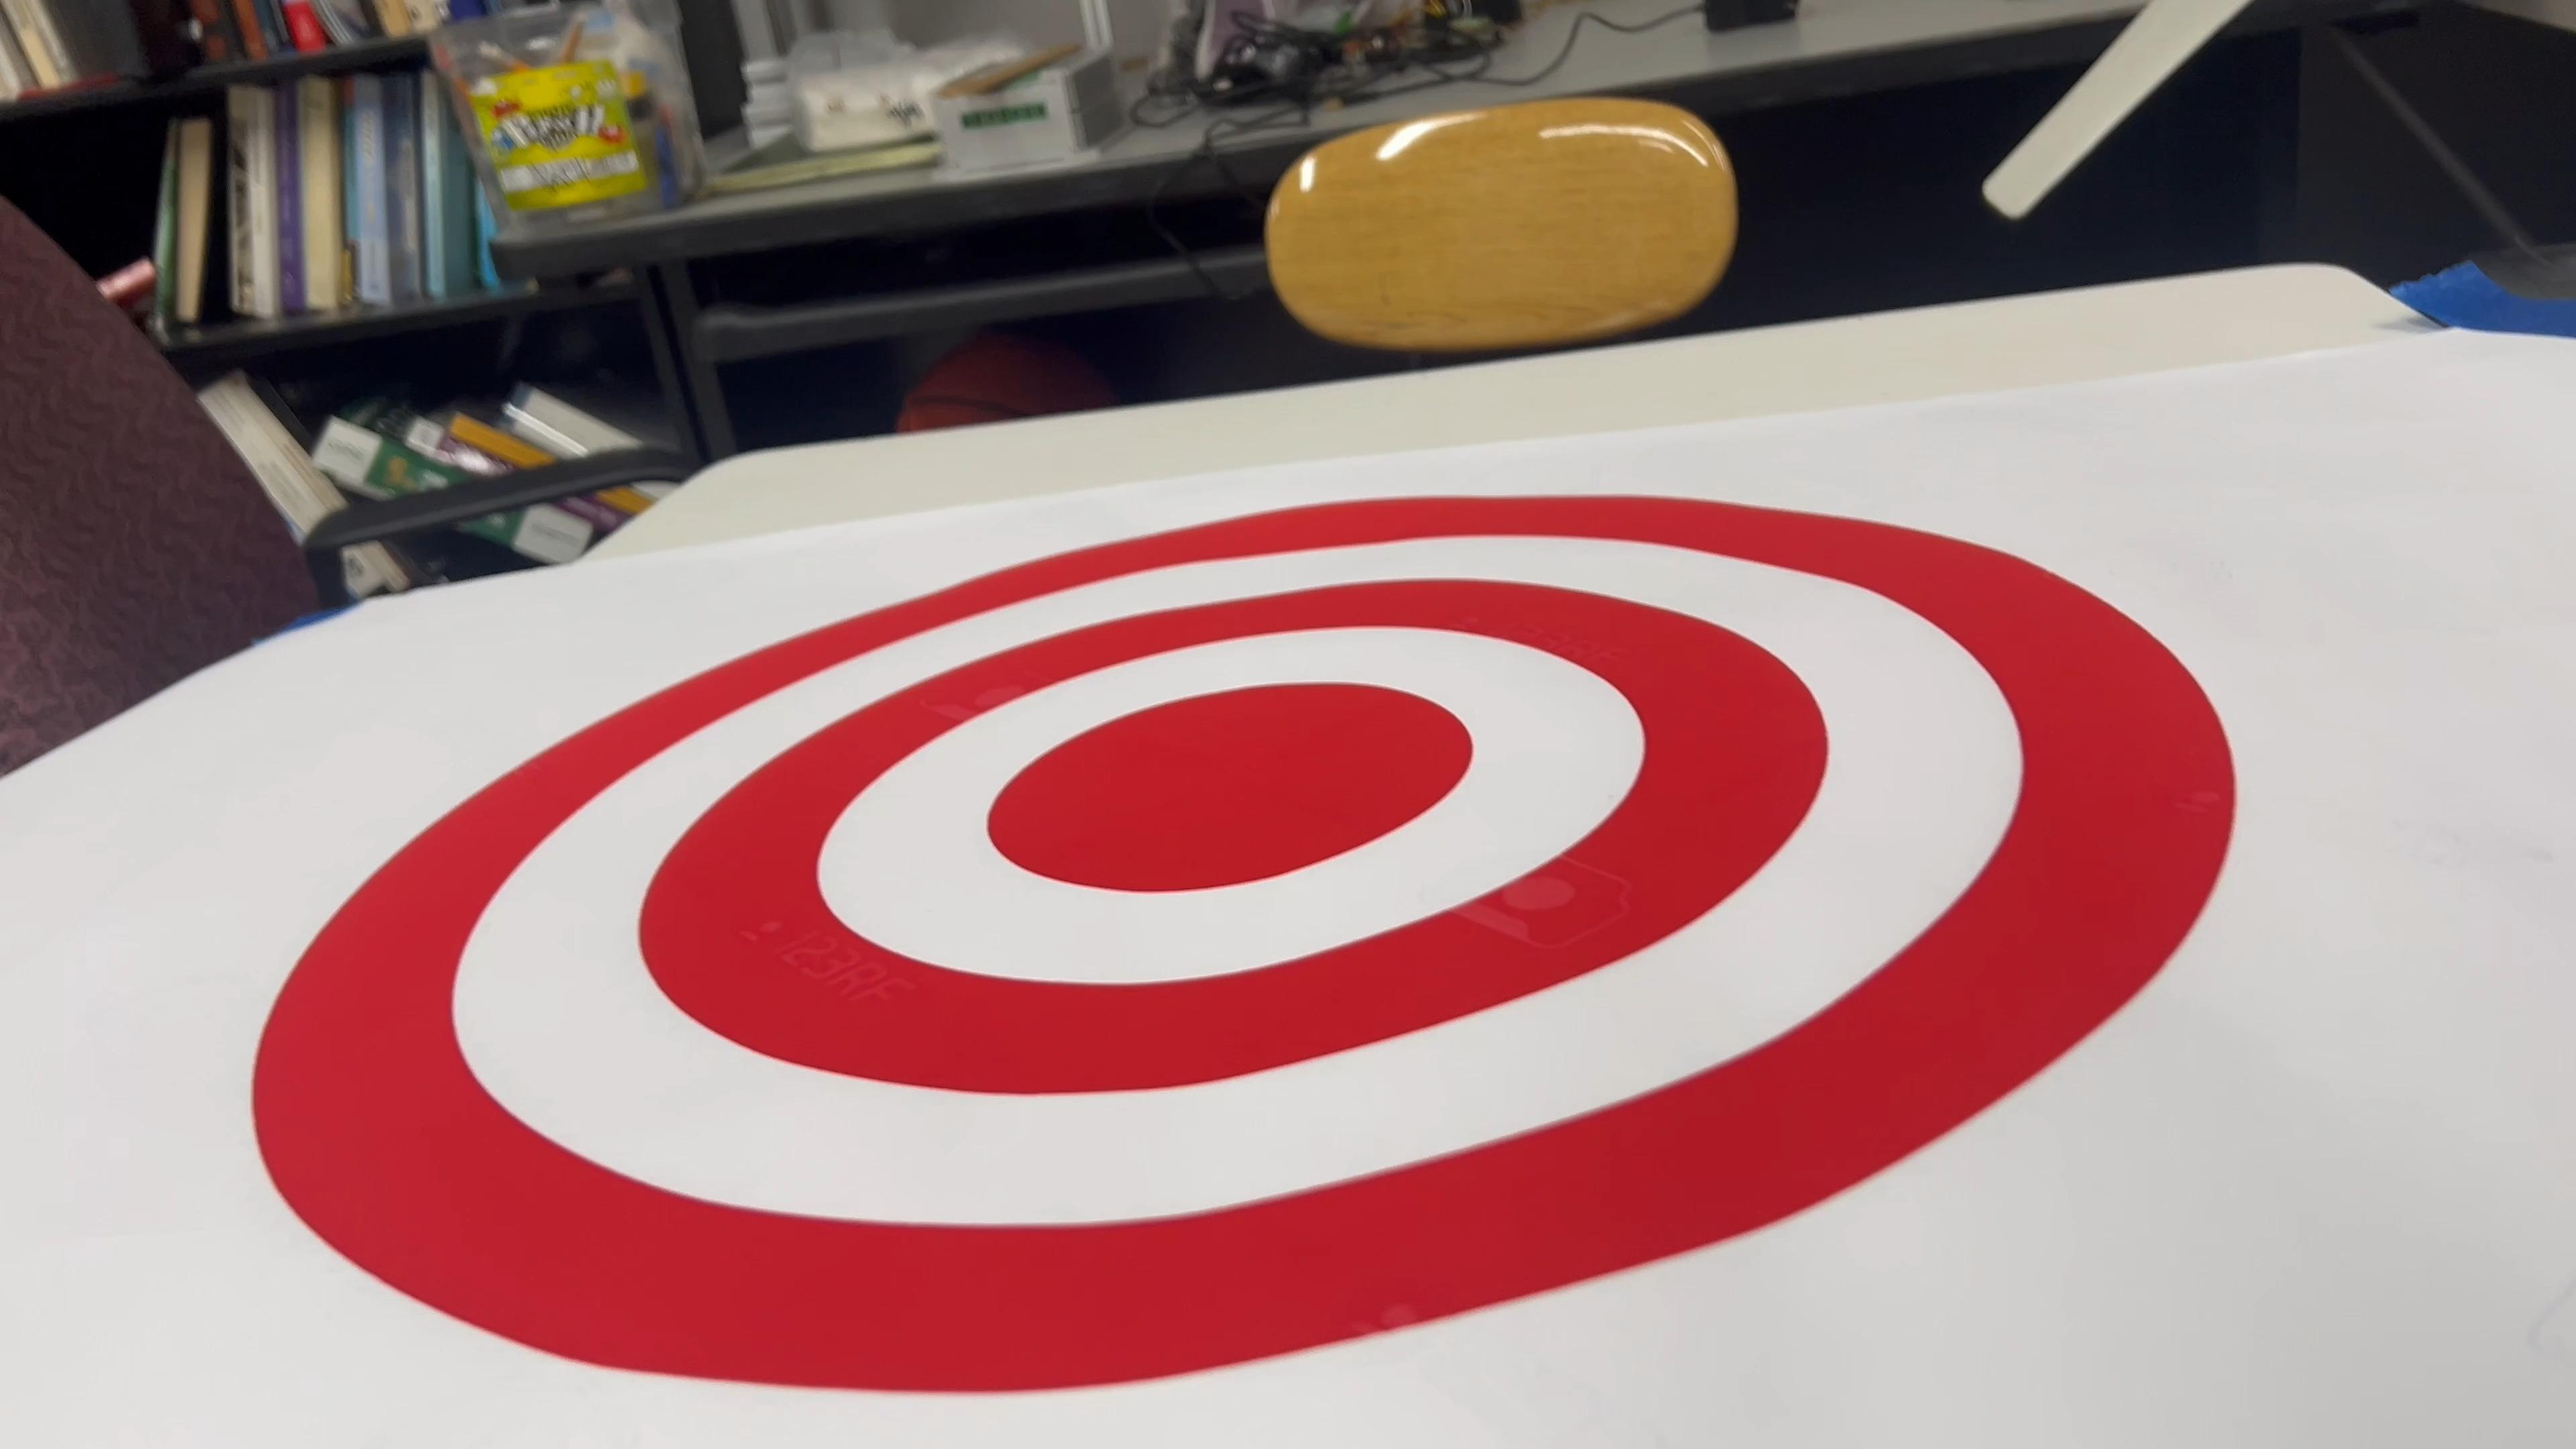target_red: (196, 456, 2265, 1408)
